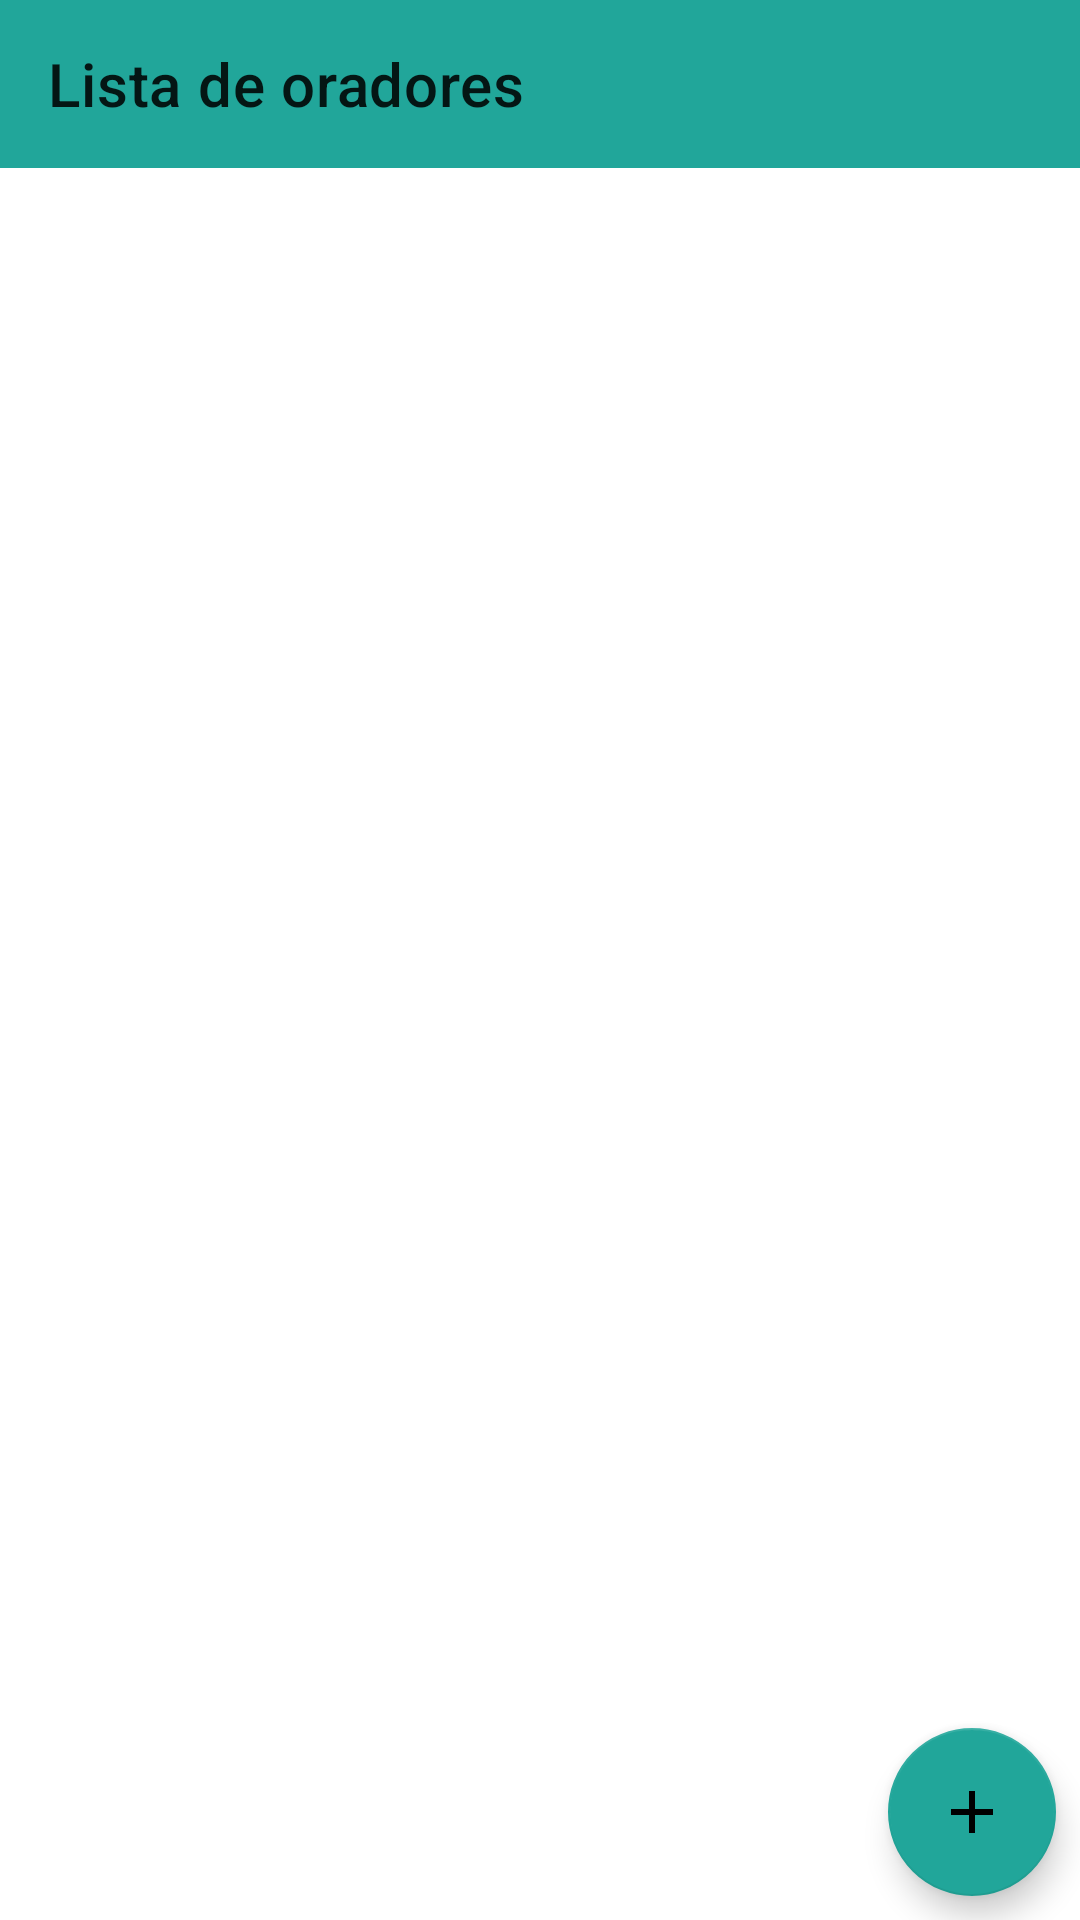

Named icons in this screenshot (1080*1920) and their centers, (x=x, y=y):
add: (x=972, y=1812)
